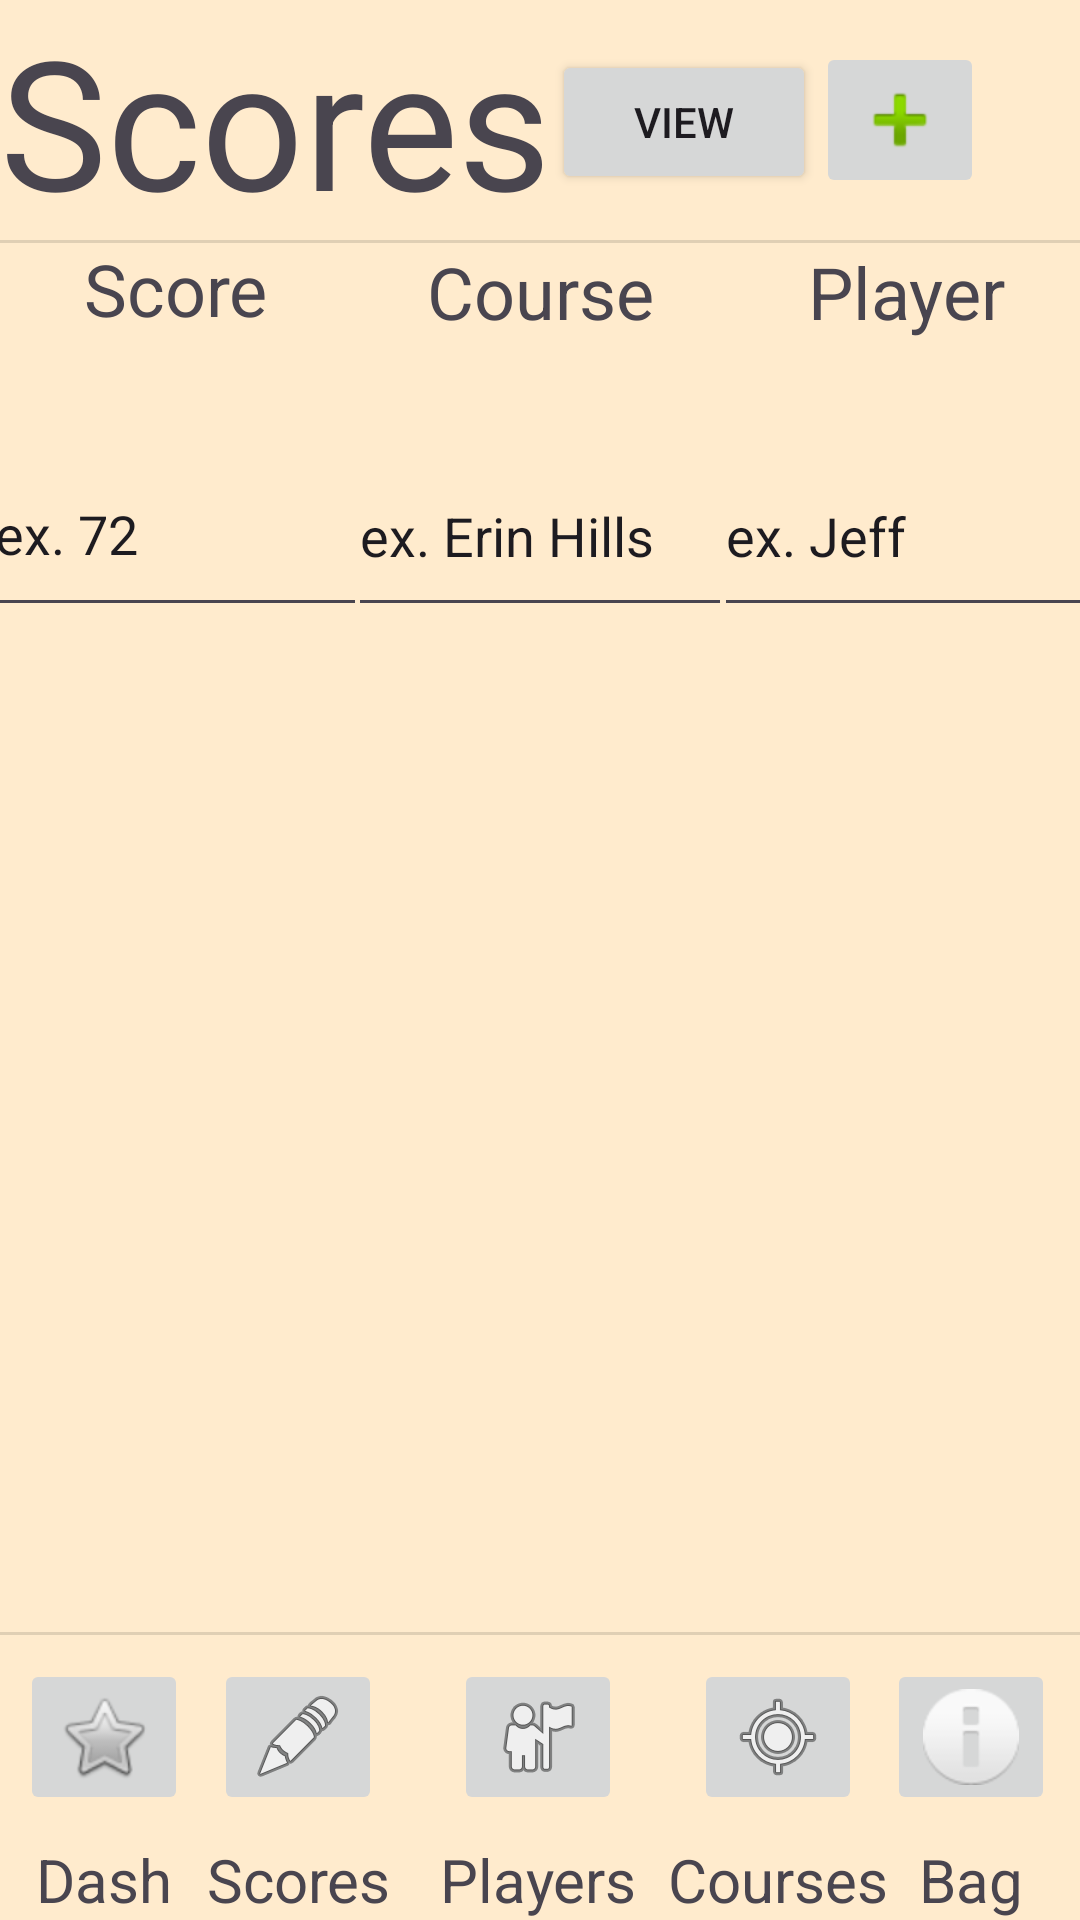

Named icons in this screenshot (1080*1920) and their bounding boxes, (x1, y1, x2, y2):
add: (828, 60, 972, 180)
edit: (226, 1677, 370, 1797)
info: (899, 1677, 1043, 1797)
mylocation: (706, 1677, 850, 1797)
myplaces: (466, 1677, 610, 1797)
star: (32, 1677, 176, 1797)
